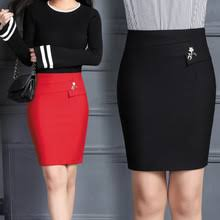F_W_suit jacket: (115, 26, 220, 174)
